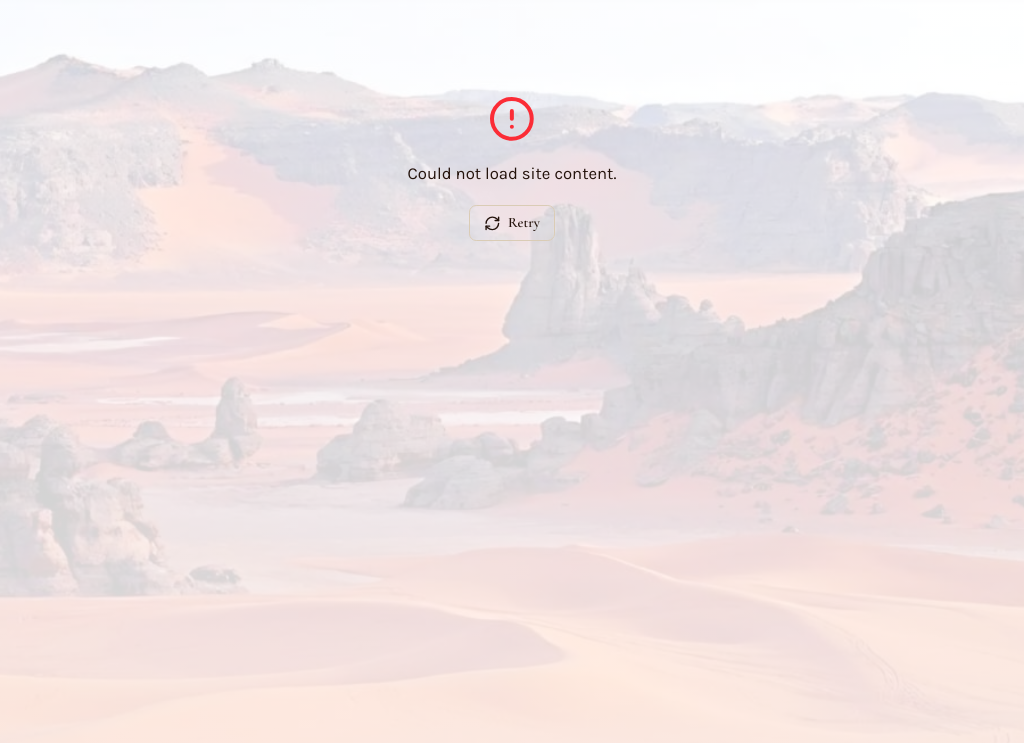
Test: ContentManager › shows a retry state when loading fails
Click the button "Retry" at (512,223), box [469,205,555,241]
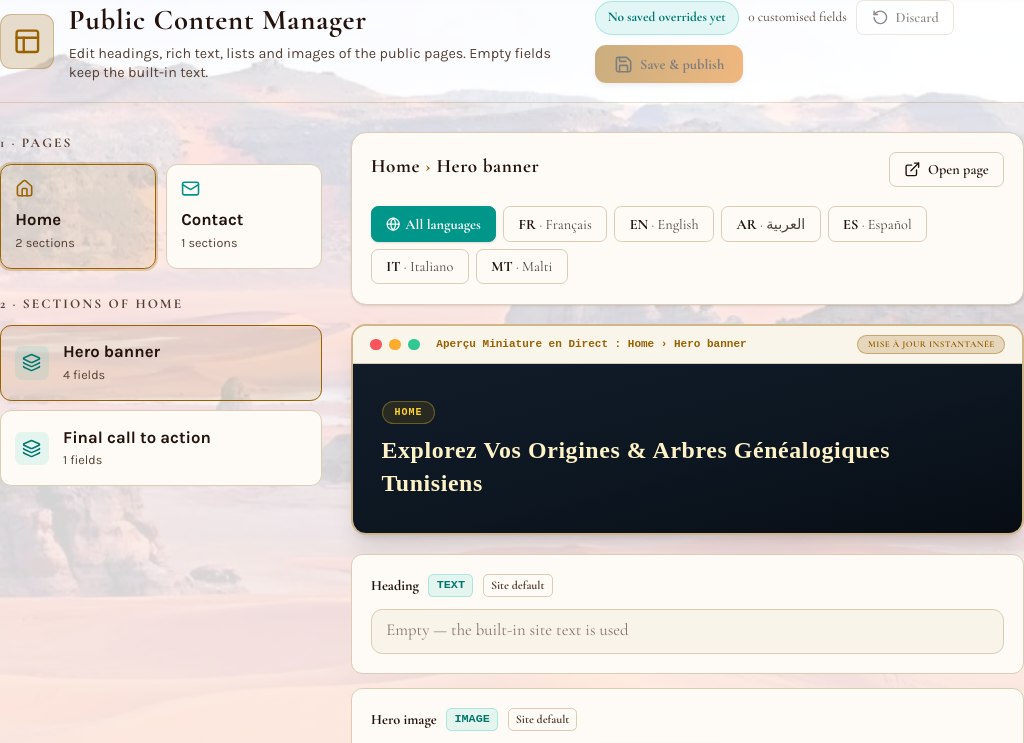
Check: the heading "Public Content Manager" is shown, box [69,3,367,37]
Check: the text "Hero banner" is shown, box [63,342,160,361]
